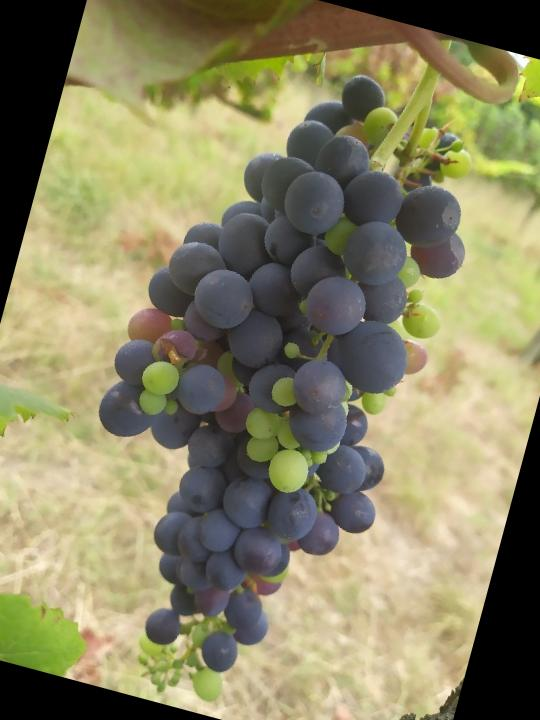grape: (32, 28, 507, 720)
